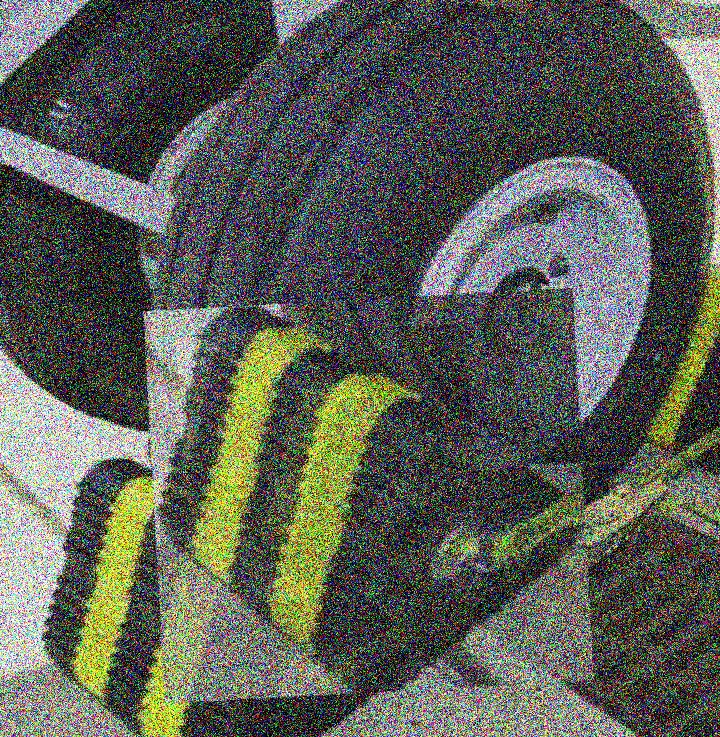chock: (143, 288, 594, 704), (29, 442, 422, 737), (176, 322, 482, 605), (592, 254, 720, 483)
wheel: (144, 0, 720, 592), (0, 0, 295, 432)
